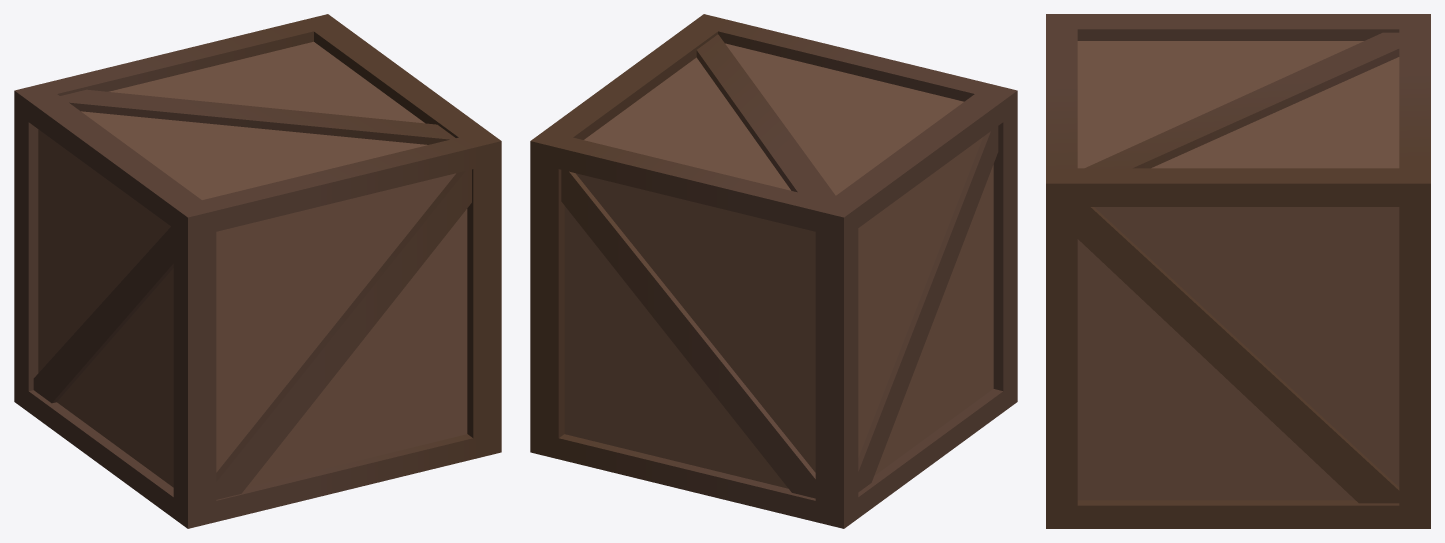
The model's file is Box Small.glb.
3 views of the same model, side by side, from view 1: azimuth 30°, elevation 25°; view 2: azimuth 150°, elevation 25°; view 3: azimuth 270°, elevation 25° (orthographic). The views are drawn at different scales.
Visible parts, largest first — view 1: Box Small; view 2: Box Small; view 3: Box Small.
Part boxes in pixels (x1,y1,x2,y2): Box Small: (14,14,501,528); Box Small: (530,14,1017,528); Box Small: (1046,14,1430,528).
Size of what is drawn, in the model's own units: 0.4751 by 0.4507 by 0.4554.
Materials: 1 (1 with a texture image).
